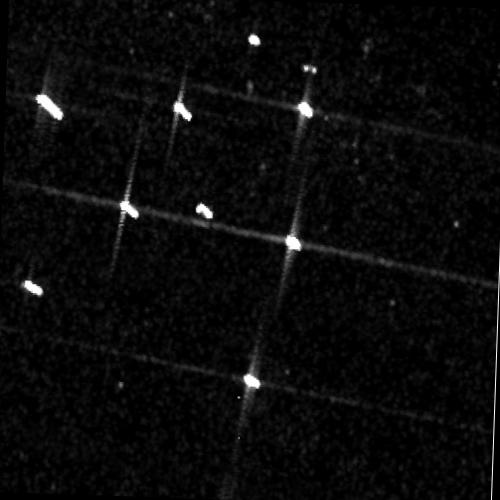ship: (35, 92, 64, 122), (172, 98, 194, 121), (22, 276, 44, 297), (119, 199, 140, 219), (242, 371, 261, 389), (195, 201, 213, 219), (284, 234, 302, 252), (298, 101, 313, 118), (248, 32, 261, 46)
